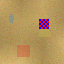person: (9, 14, 14, 23)
vehicle: (17, 44, 30, 56)
